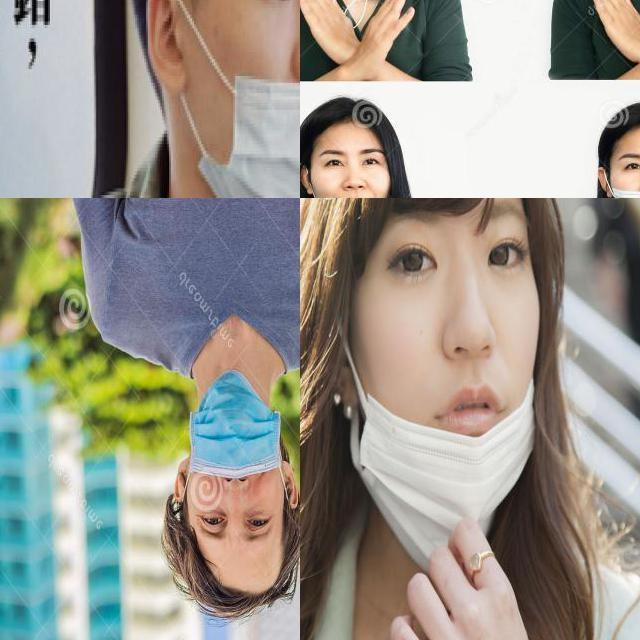hairnet: (349, 297, 541, 476), (192, 386, 281, 498)
